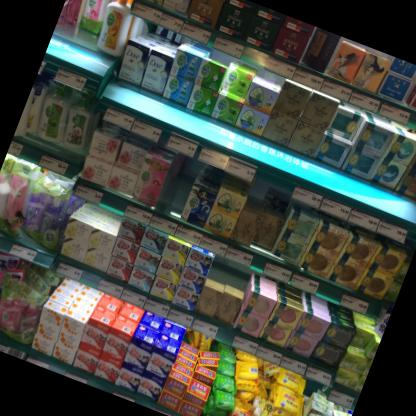empty_space: (155, 146, 204, 220)
